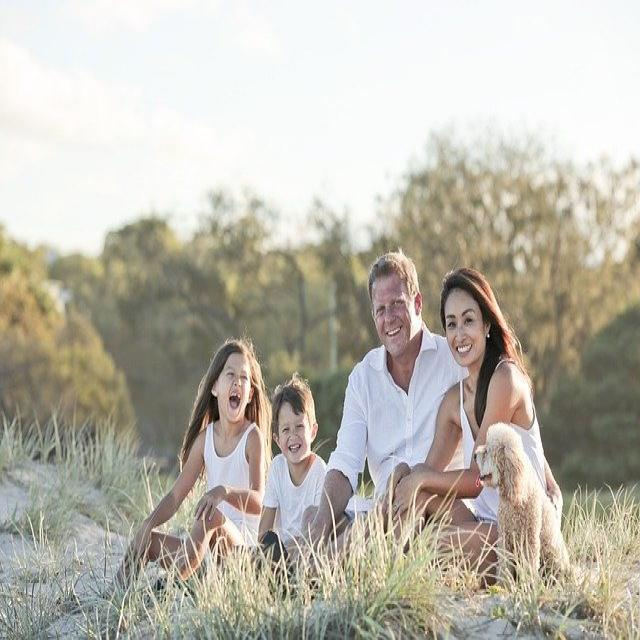adult: (385, 264, 549, 589), (300, 249, 446, 602)
child: (102, 338, 268, 599), (255, 376, 330, 602)
